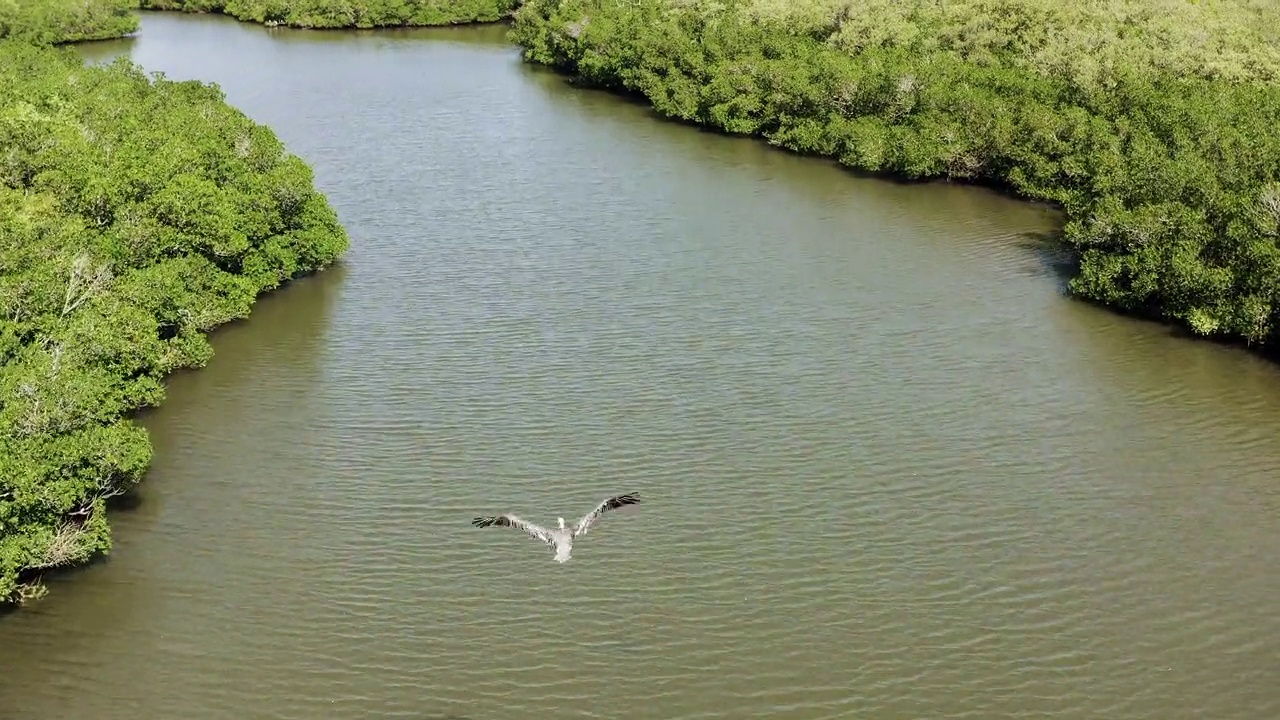bird: (471, 488, 639, 564)
